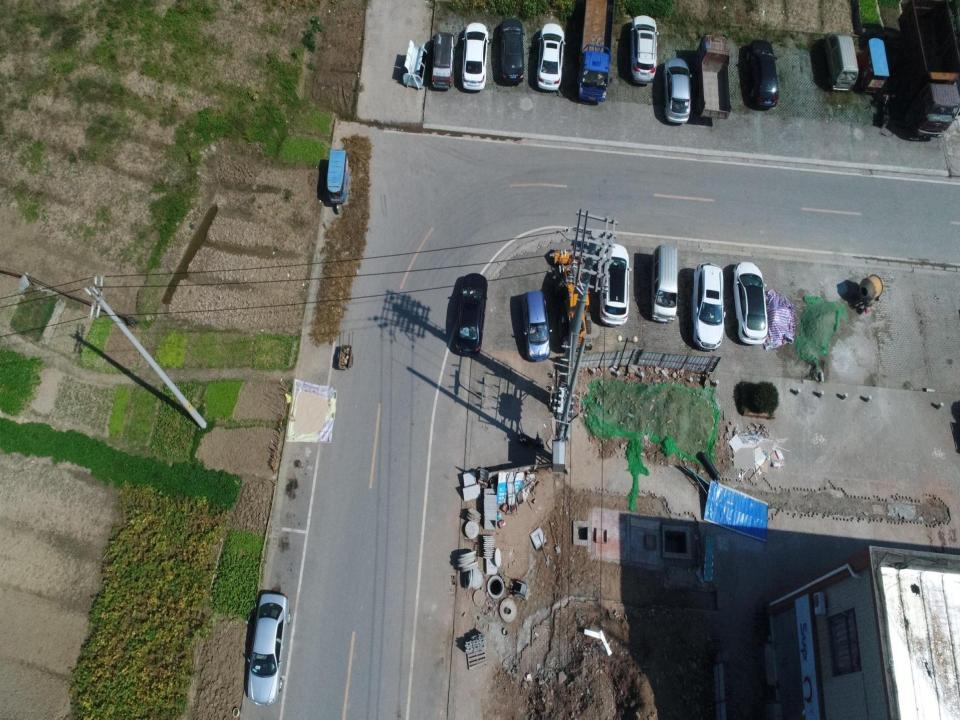car: (248, 594, 290, 706), (731, 260, 768, 344), (693, 261, 723, 351), (598, 244, 629, 326), (456, 273, 487, 355), (747, 41, 779, 111), (520, 292, 550, 360), (535, 24, 564, 90), (663, 56, 691, 124), (631, 15, 657, 87), (461, 22, 488, 90), (499, 19, 525, 85)
truck: (898, 0, 958, 140), (577, 0, 614, 104), (692, 35, 731, 123)
van: (651, 246, 678, 325), (823, 34, 858, 94), (432, 32, 454, 90)
